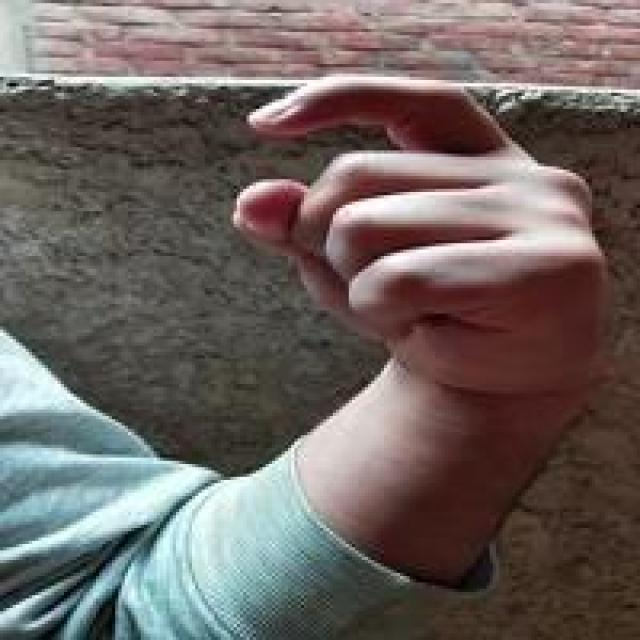X: (225, 62, 622, 396)
